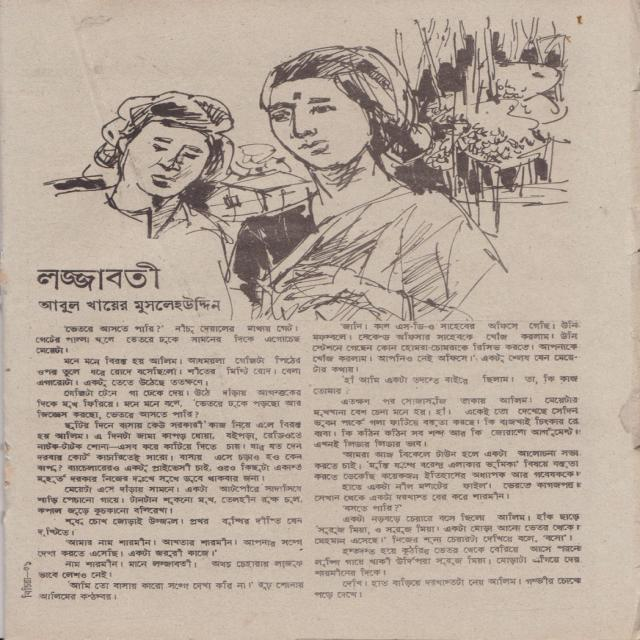image: (35, 0, 591, 316)
page number: (23, 561, 32, 571)
paragraph: (35, 419, 304, 485), (306, 317, 584, 375), (306, 394, 583, 449), (310, 509, 584, 546), (311, 542, 585, 579), (30, 322, 307, 356), (308, 447, 581, 481), (33, 482, 305, 516), (32, 354, 303, 388), (34, 387, 306, 420), (311, 575, 586, 601), (311, 479, 584, 504), (310, 372, 579, 397), (30, 534, 308, 558), (33, 513, 305, 537), (35, 556, 306, 580), (37, 580, 305, 601), (337, 502, 403, 513)
text: (36, 293, 225, 316), (21, 577, 32, 599)
title: (30, 257, 167, 292)
